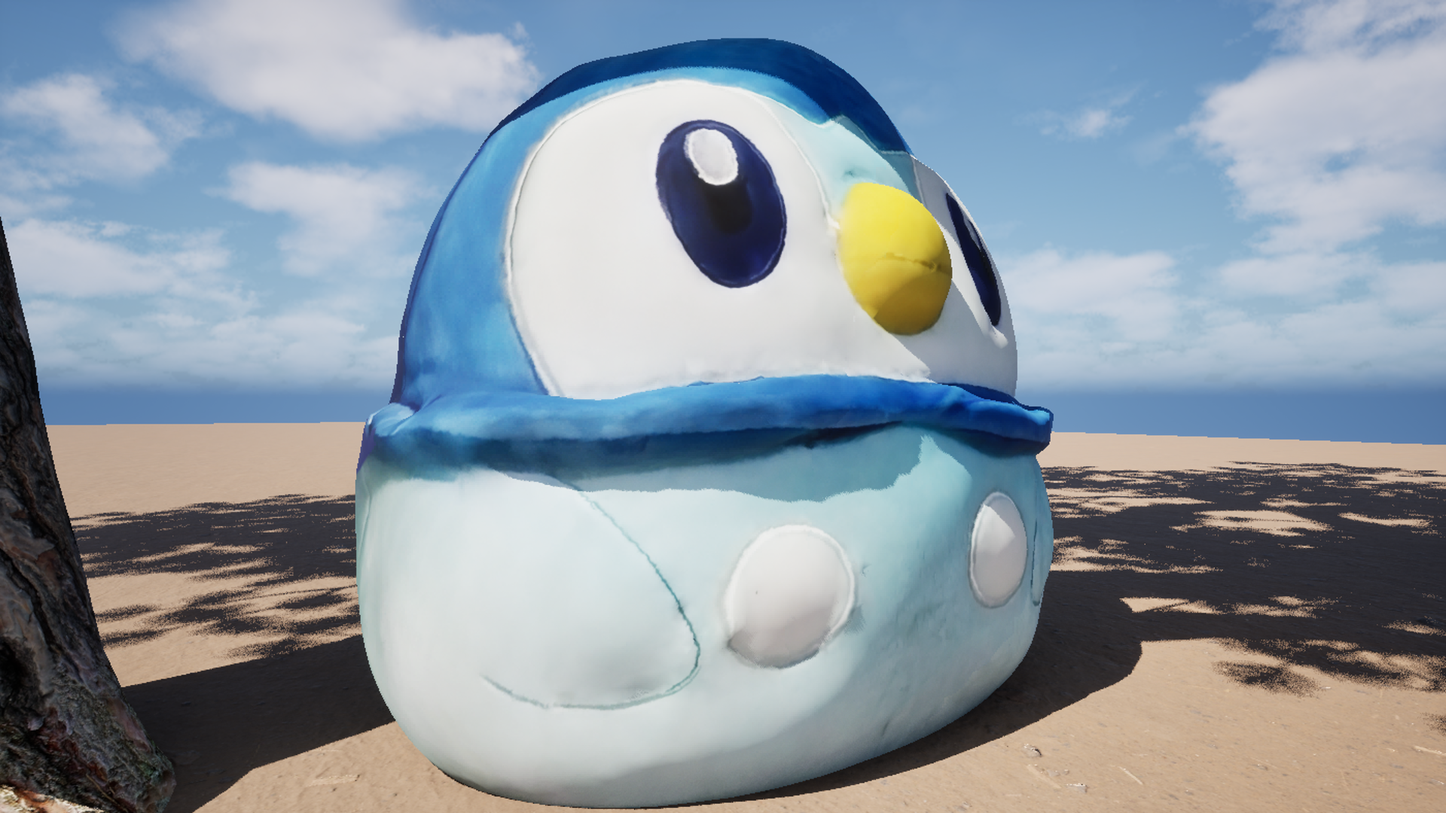Piplup: (337, 0, 1214, 813)
